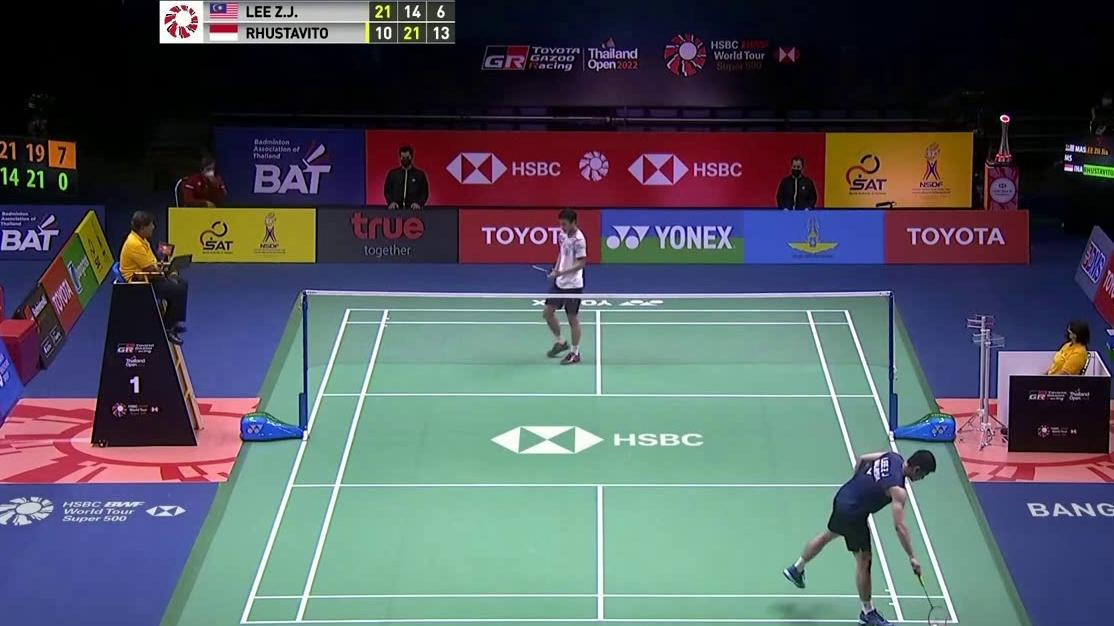racket: (910, 563, 950, 626), (528, 259, 560, 279)
shuttle: (930, 623, 940, 626)
